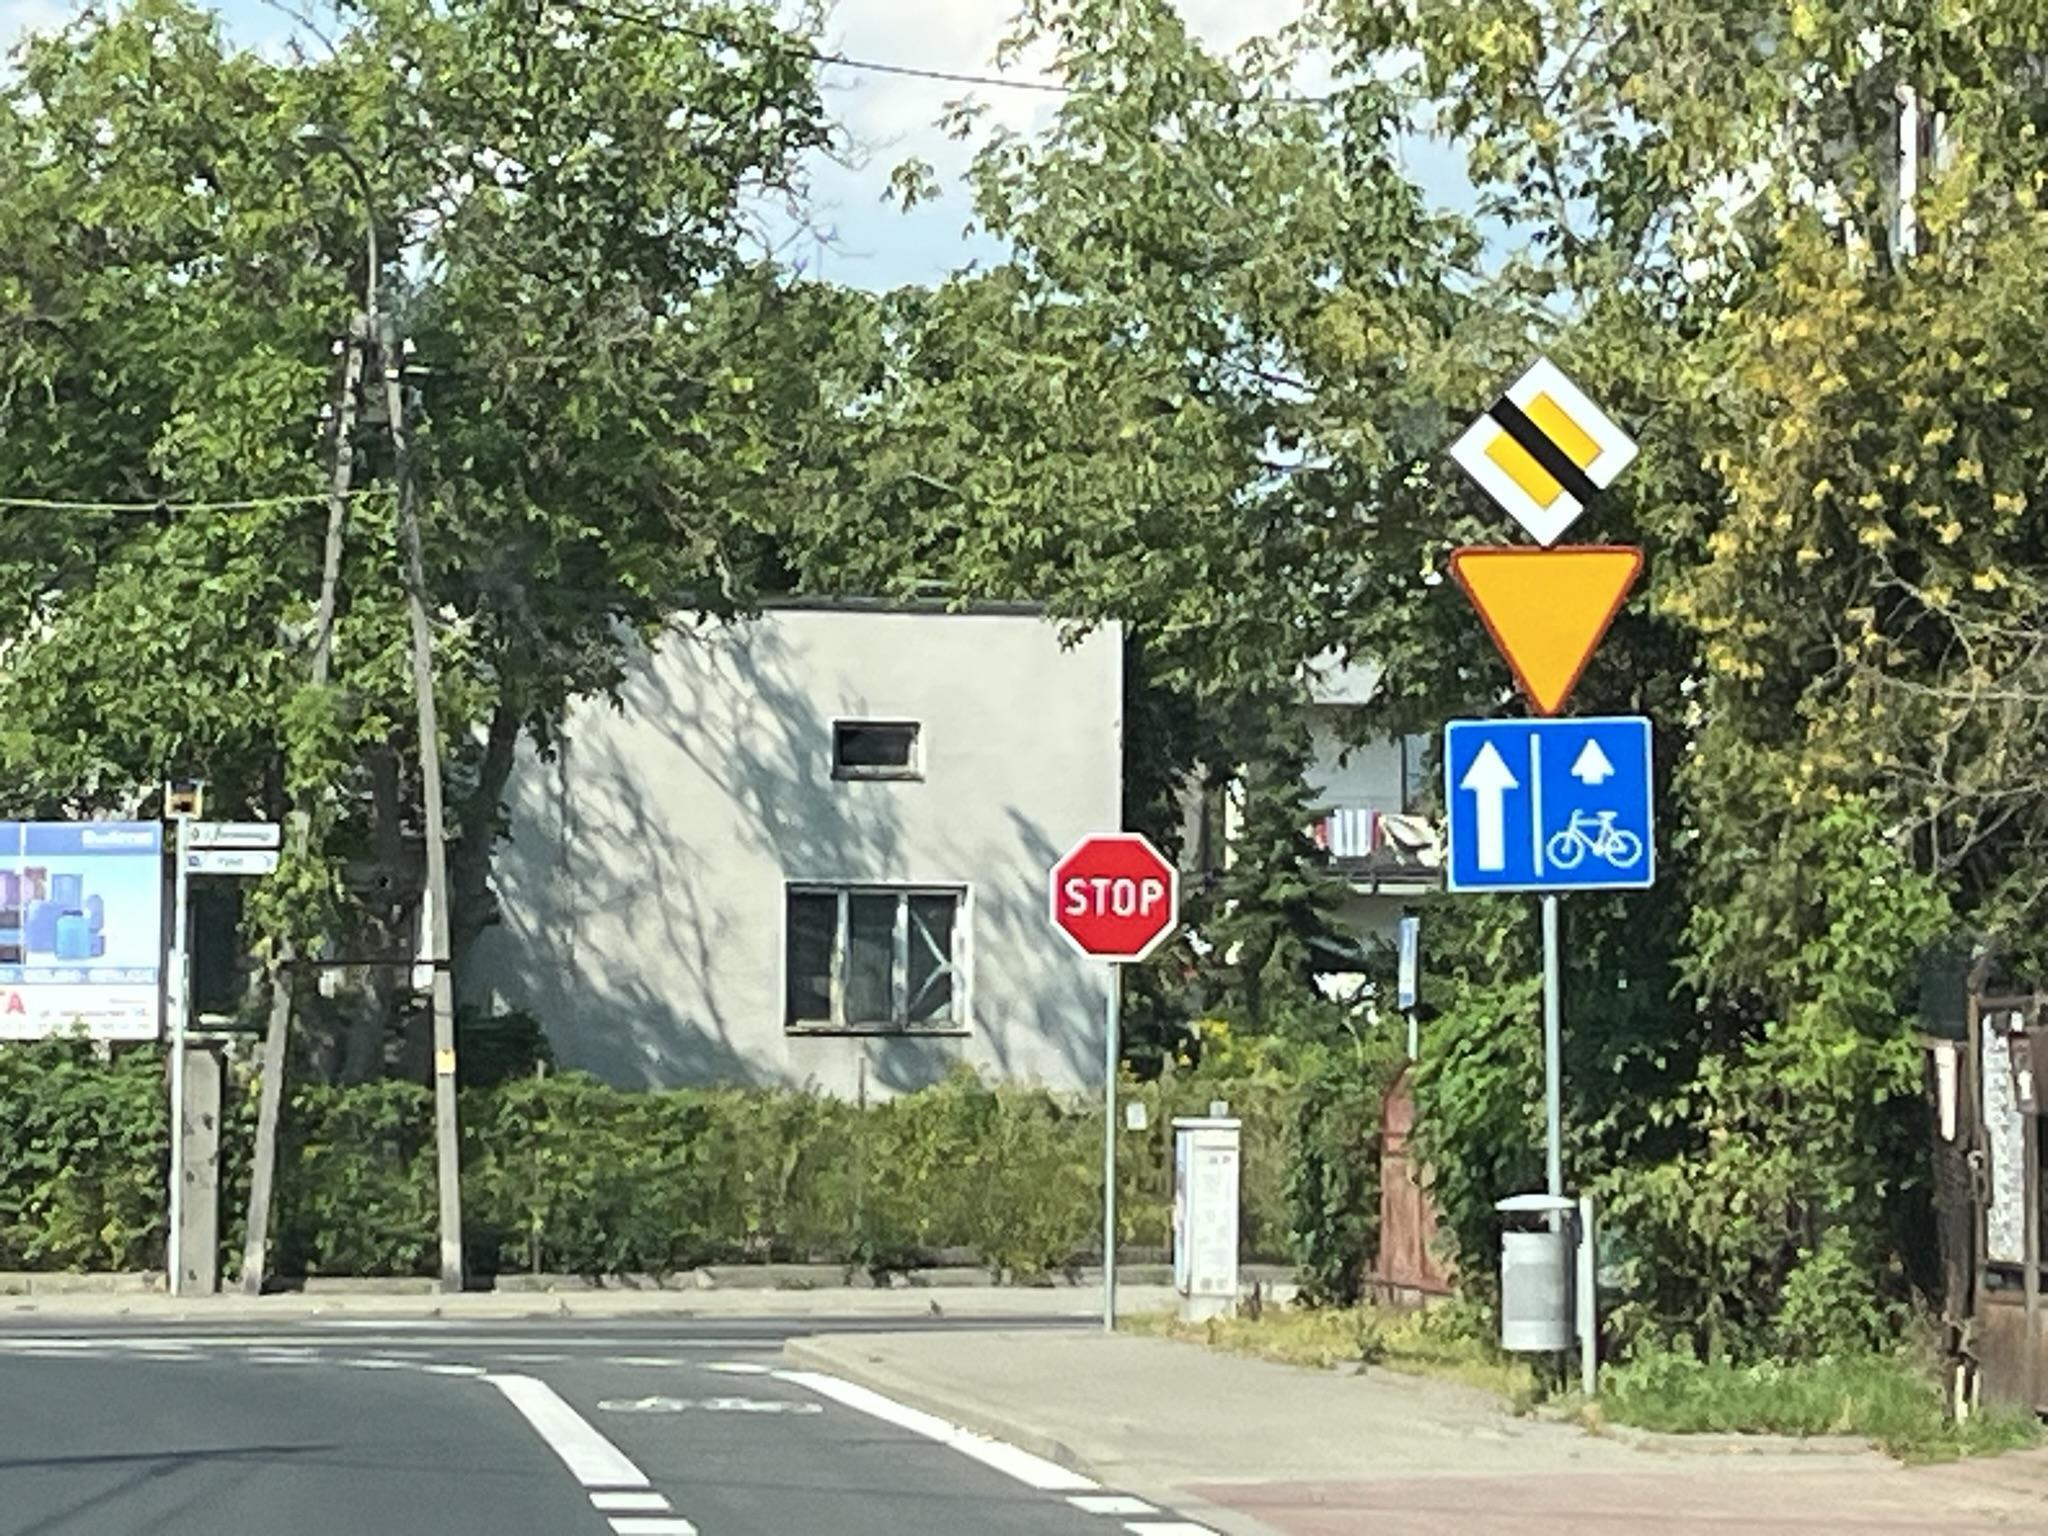information: (1447, 355, 1643, 550)
other: (1448, 724, 1651, 884)
prohibitory: (1047, 831, 1179, 965)
warning: (1450, 545, 1646, 716)
